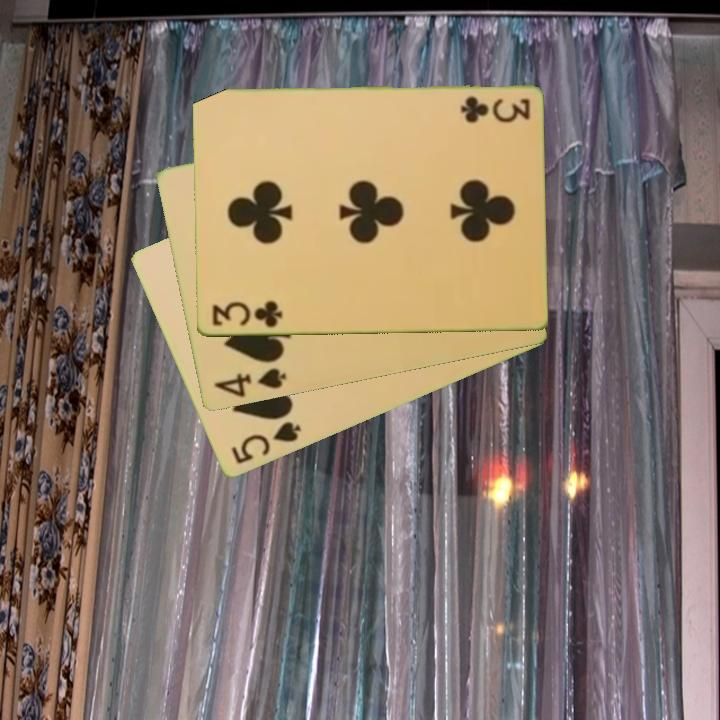3c: (209, 297, 285, 330), (457, 93, 533, 122)
4s: (210, 365, 289, 401)
5s: (227, 418, 304, 468)
